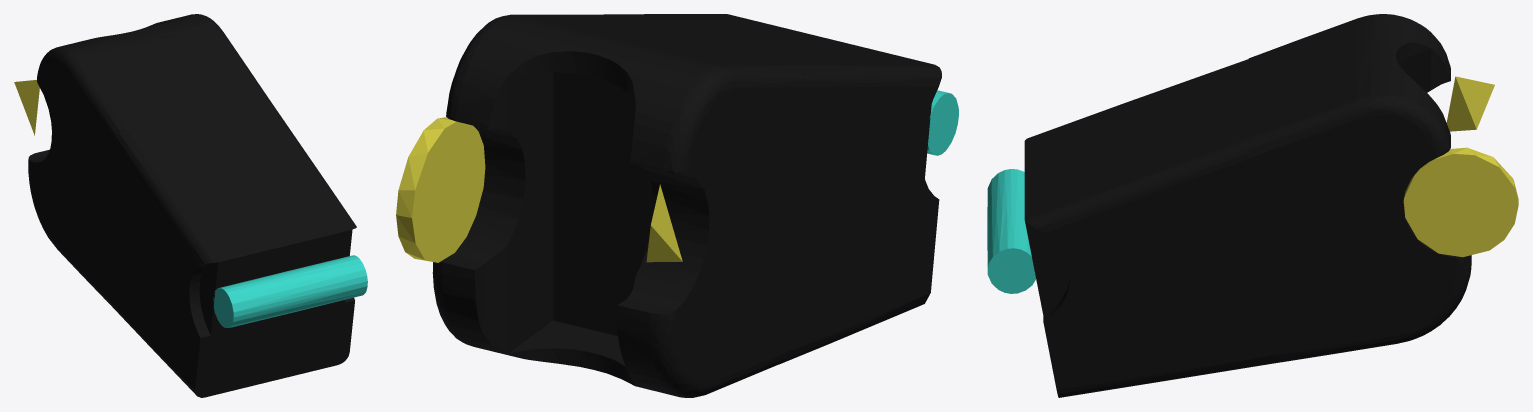
Rendered from calf_dexter_collision.obj.
3 views of the same model, side by side, from view 1: azimuth 30°, elevation 25°; view 2: azimuth 150°, elevation 25°; view 3: azimuth 270°, elevation 25° (orthographic). The views are drawn at different scales.
Visible parts, largest first — view 1: Body7, Body2, Body3, Body4; view 2: Body2, Body7, Body5, Body3, Body4; view 3: Body7, Body2, Body5, Body3, Body4.
Part boxes in pixels (x1,y1,x2,y2): Body7: (103, 95, 356, 397); Body2: (28, 14, 266, 299); Body3: (213, 255, 367, 328); Body4: (14, 80, 39, 135); Body2: (432, 14, 806, 397); Body7: (585, 14, 941, 364); Body5: (396, 117, 485, 262); Body3: (927, 90, 958, 155); Body4: (646, 184, 682, 262); Body7: (1024, 59, 1280, 397); Body2: (1248, 14, 1471, 362); Body5: (1403, 147, 1518, 257); Body3: (987, 169, 1035, 293); Body4: (1446, 76, 1494, 131).
Size of the model in its own units: 15 by 23.06 by 36.75.
